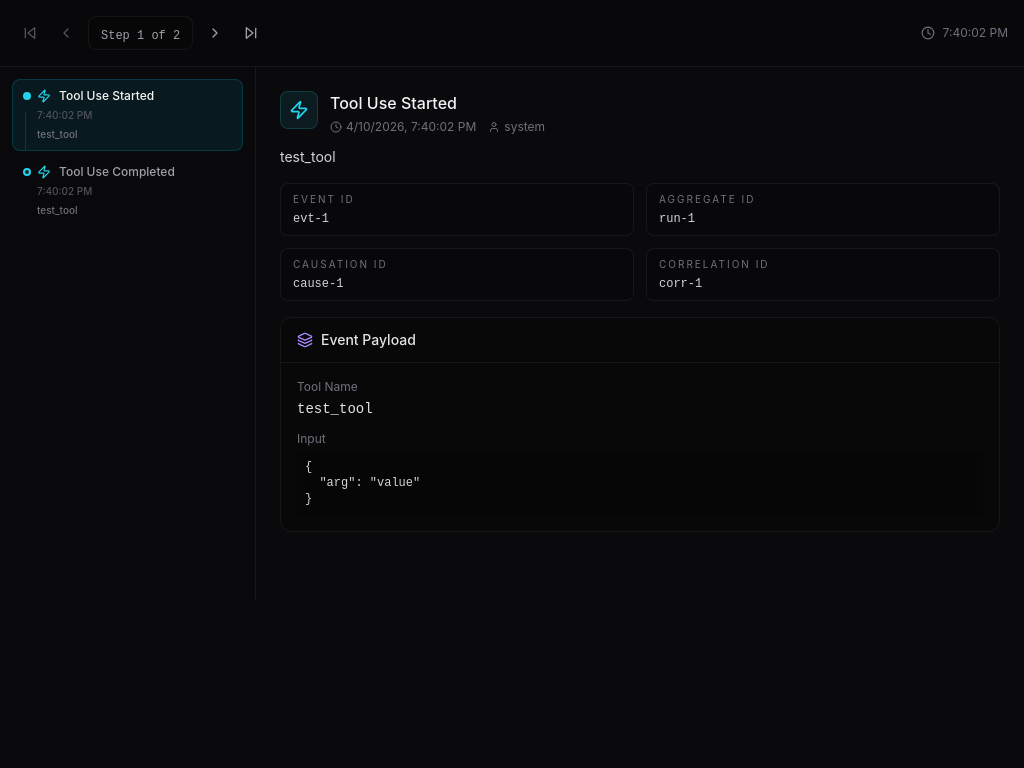
Test: RunReplayPanel › navigates to next step
Expected: the text "Step 1 of 2" is shown, x1=101 y1=29 x2=180 y2=43
Click the button titled "Next step".
click(215, 33)  # box x1=201 y1=19 x2=229 y2=47
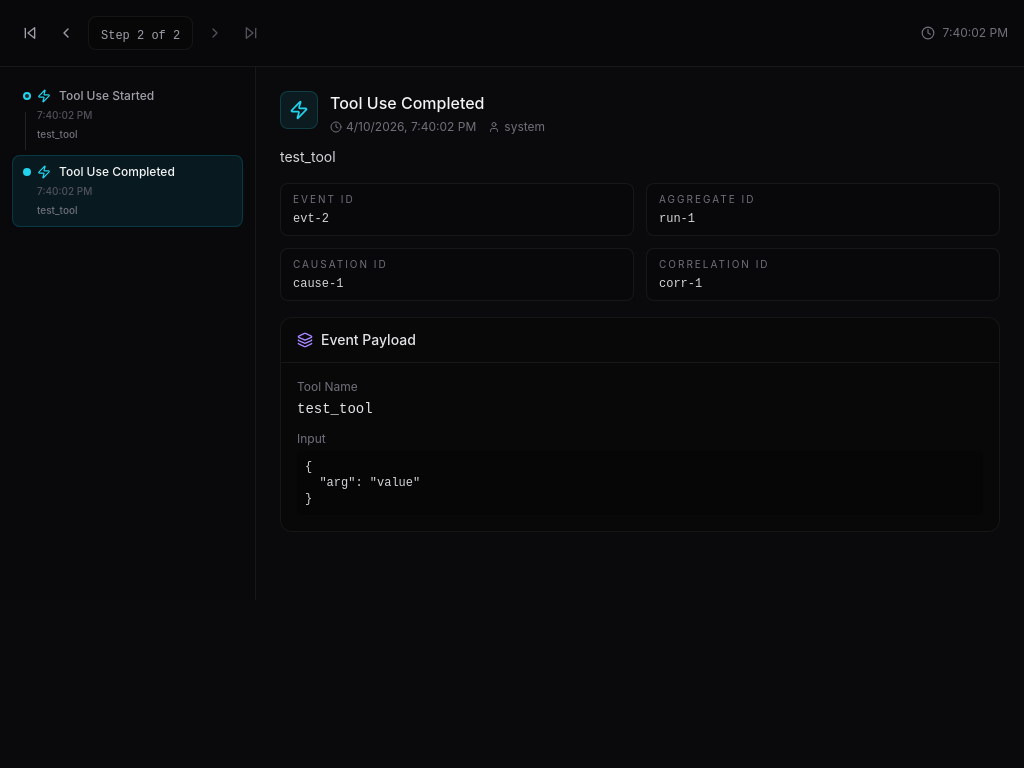
Now the text "Step 2 of 2" is shown, box x1=101 y1=29 x2=180 y2=43
